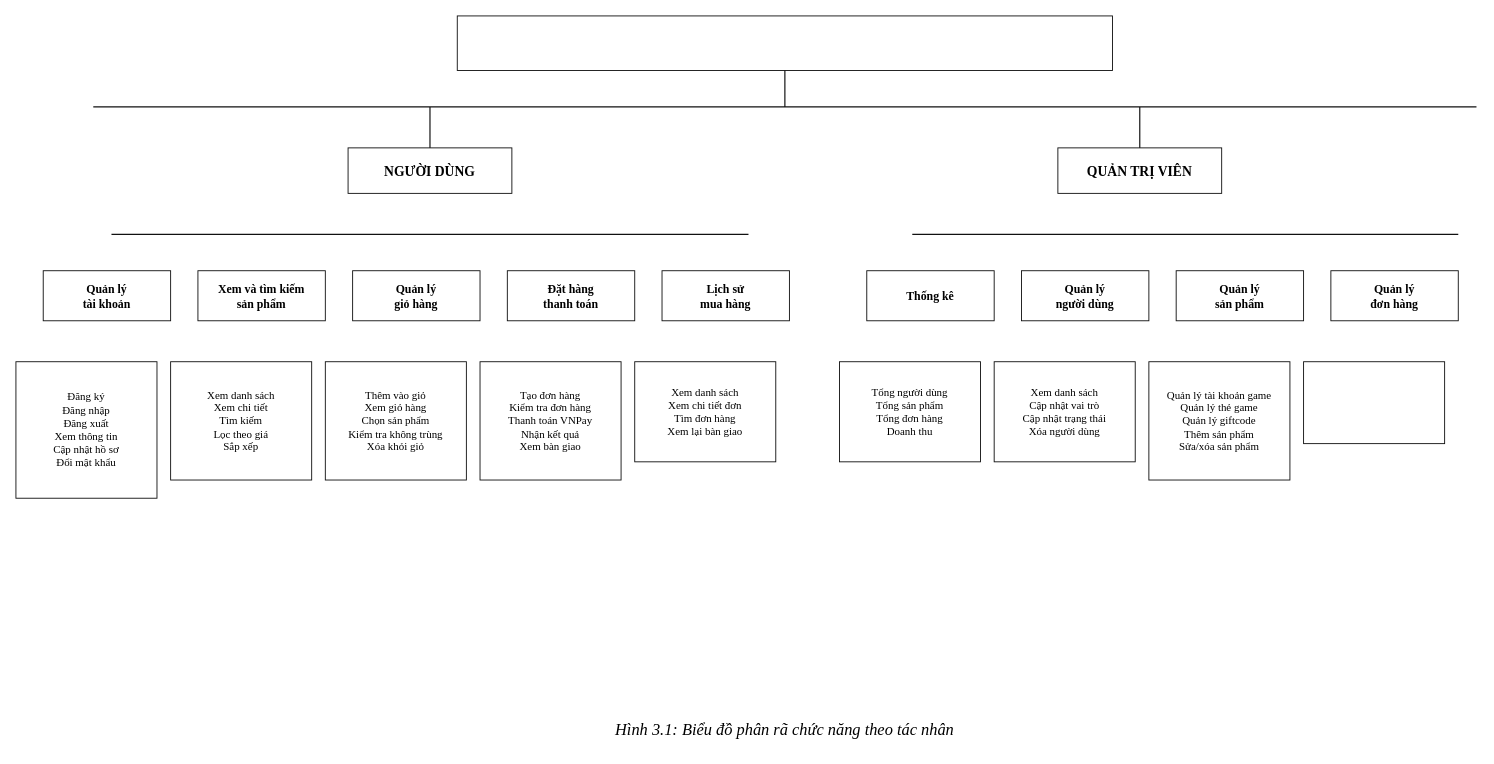
Image size: 1494x764. Some labels were removed from this diagram. Each missing label, with the box of its shape:
HỆ THỐNG WEBSITE BÁN TÀI KHOẢN GAME, THẺ GAME VÀ GIFTCODE: (456, 15, 1112, 71)
Xem danh sách Xem chi tiết Cập nhật trạng thái: (1303, 361, 1445, 444)
